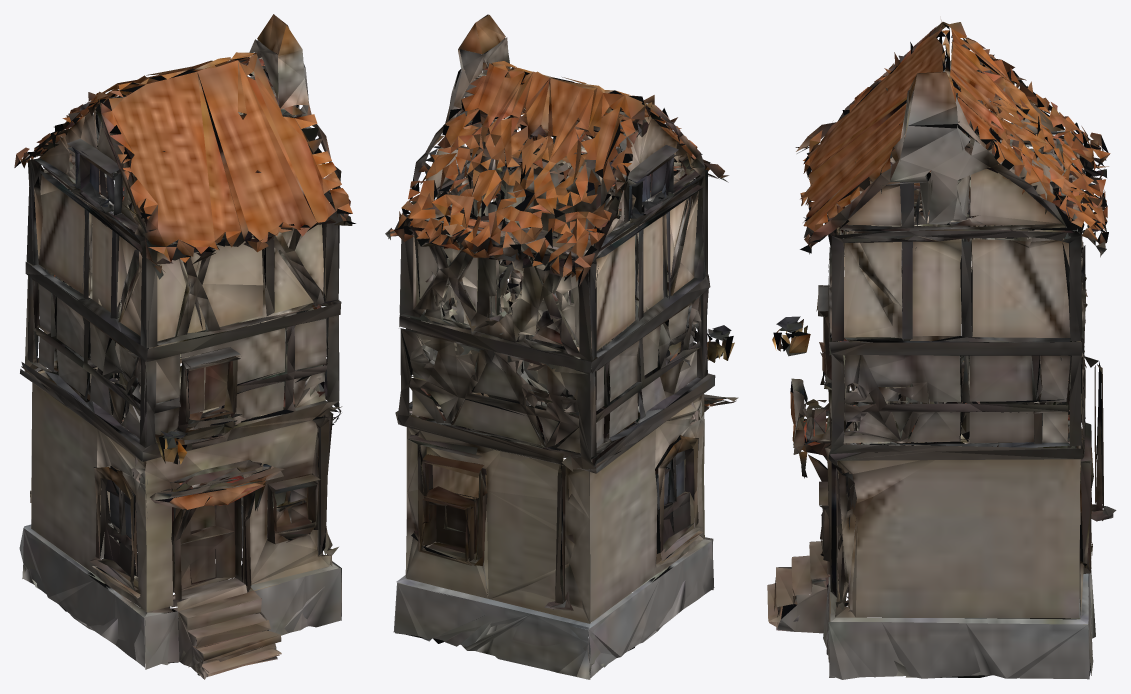
The model's file is house_two_story_tall_timber_lod0.glb.
3 renders of one model, left to right at view 1: azimuth 30°, elevation 25°; view 2: azimuth 150°, elevation 25°; view 3: azimuth 270°, elevation 25°, orthographic. The views are drawn at different scales.
Visible parts, largest first — view 1: house_two_story_tall_timber_lod0; view 2: house_two_story_tall_timber_lod0; view 3: house_two_story_tall_timber_lod0.
Boxes of the visible parts, x1,y1,x2,y2 form: house_two_story_tall_timber_lod0: [14, 14, 355, 679]; house_two_story_tall_timber_lod0: [385, 14, 738, 679]; house_two_story_tall_timber_lod0: [767, 20, 1116, 679].
Size of the model in its own units: 3.57 by 9.02 by 4.74.
1 material, 1 textured.
